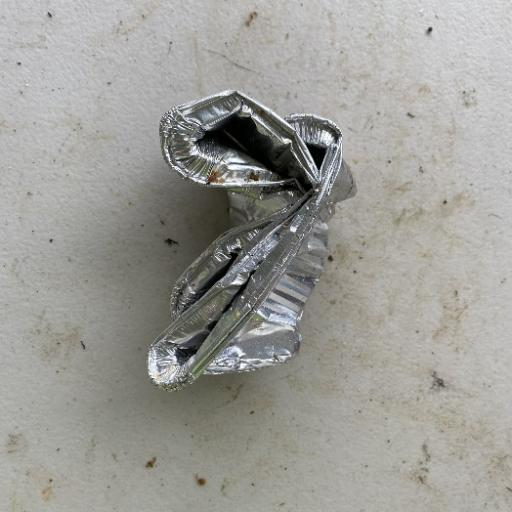Metal: (144, 87, 354, 393)
